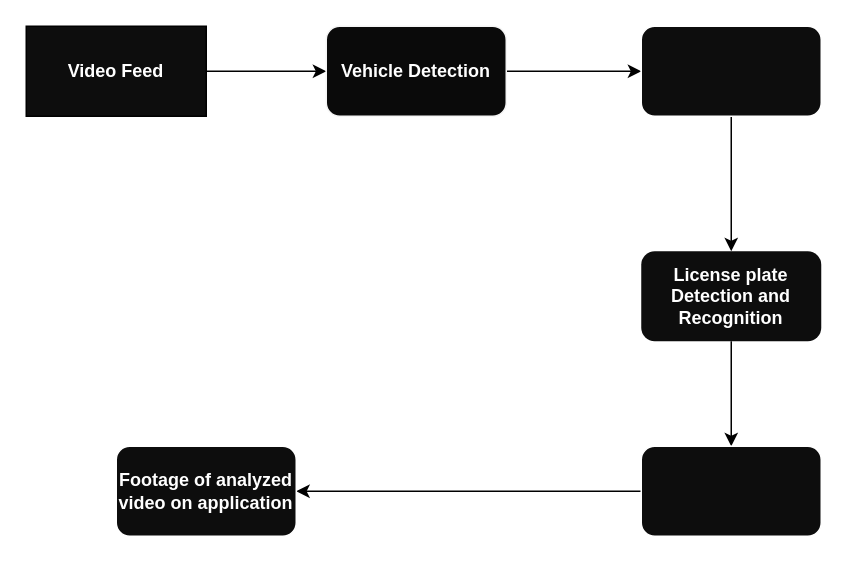
The diagram is 848 pixels wide and 563 high, and some of its shapes have lost their labels. The shapes that lost their labels are listed below. From the top down, each one's centre as x and y in pixels, then its label:
At [730,70]: "Vehicle Tracking".
At [730,490]: "Speed Estimation".
